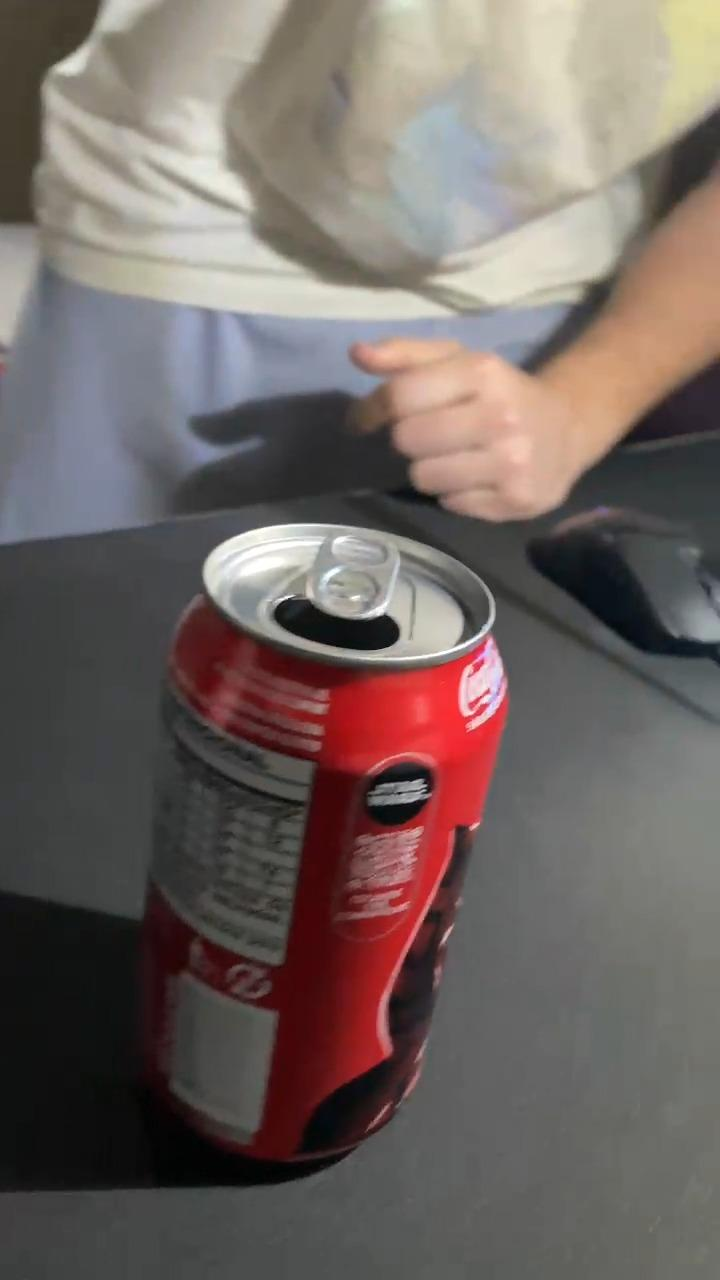coke: (132, 525, 507, 1163)
